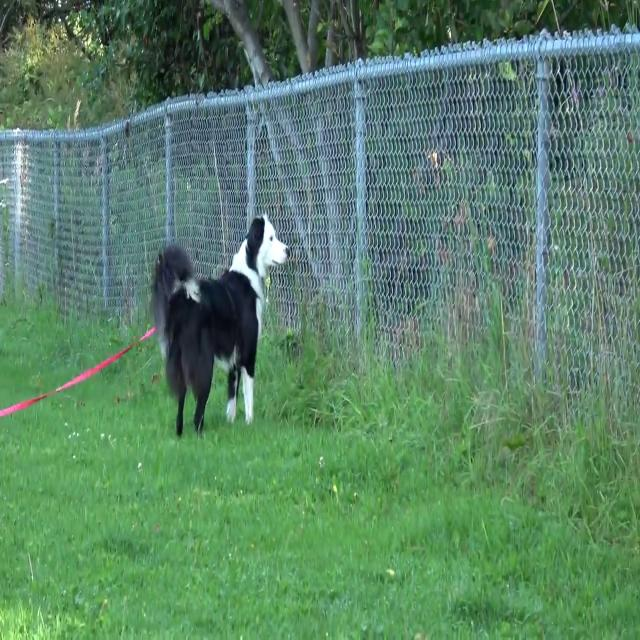Dog: (152, 215, 291, 439)
